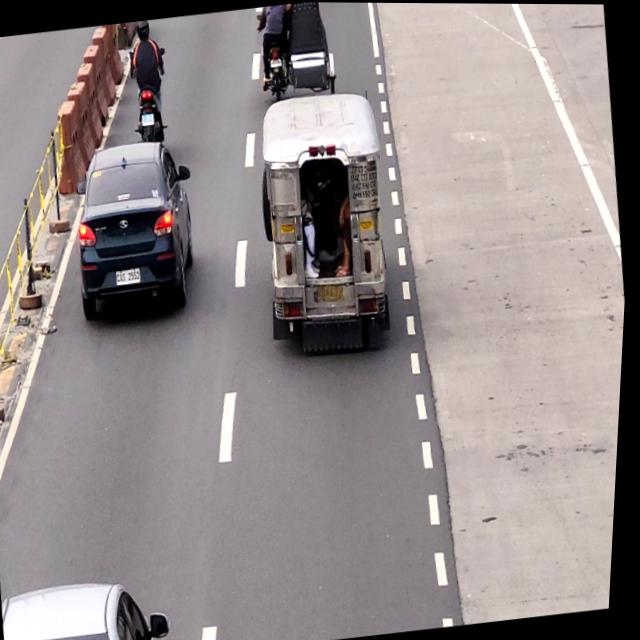Car: (62, 136, 203, 329), (5, 574, 176, 640)
Jeep: (249, 87, 400, 353)
License-Plate: (317, 281, 347, 302), (117, 267, 146, 288), (142, 112, 156, 126)
Motorcycle: (124, 18, 176, 142)
Tricycle: (251, 1, 344, 99)
